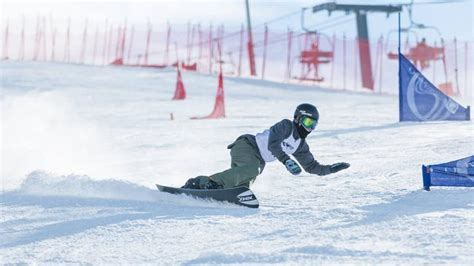snowboarder: (141, 102, 352, 211)
